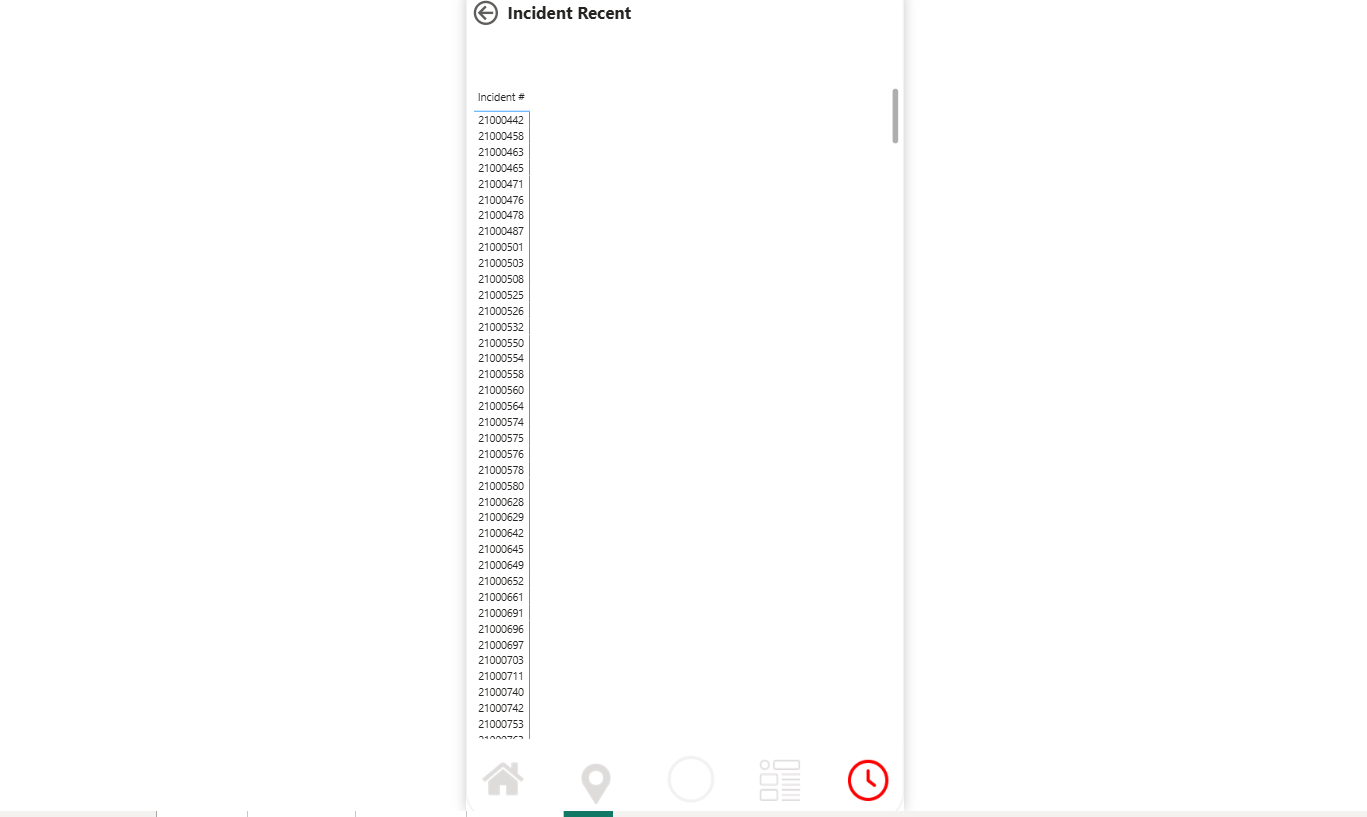

The page's visual inventory and layout, read from the dashboard file:
{"tool":"powerbi","page":{"name":"Recent","canvas":[550,1030],"ordinal":3},"visuals":[{"type":"actionButton","box":[350.5,944.3,94.1,86],"z":0},{"type":"actionButton","box":[118.4,944.3,94.1,86],"z":1000},{"type":"actionButton","box":[0,944.3,94.1,86],"z":2000},{"type":"actionButton","box":[4.9,4.9,51.9,40.6],"z":3000},{"type":"textbox","box":[47.7,5.1,183.9,57.9],"z":4000},{"type":"pivotTable","fields":{"Rows":["Public Sector - Emergency Calls.Incident #"]},"box":[5.1,114.1,545,829.4],"z":5000}]}

Visuals, with their boxes on the page's 550x1030 design canvas (x1, y1, x2, y2). These are canvas units, not pixel positions in the 1367x817 screenshot, which may show the page scaled, cropped or inside an application window:
actionButton: select_region(350, 944, 445, 1030)
actionButton: select_region(118, 944, 212, 1030)
actionButton: select_region(0, 944, 94, 1030)
actionButton: select_region(5, 5, 57, 46)
textbox: select_region(48, 5, 232, 63)
pivotTable - Public Sector - Emergency Calls.Incident #: select_region(5, 114, 550, 944)
